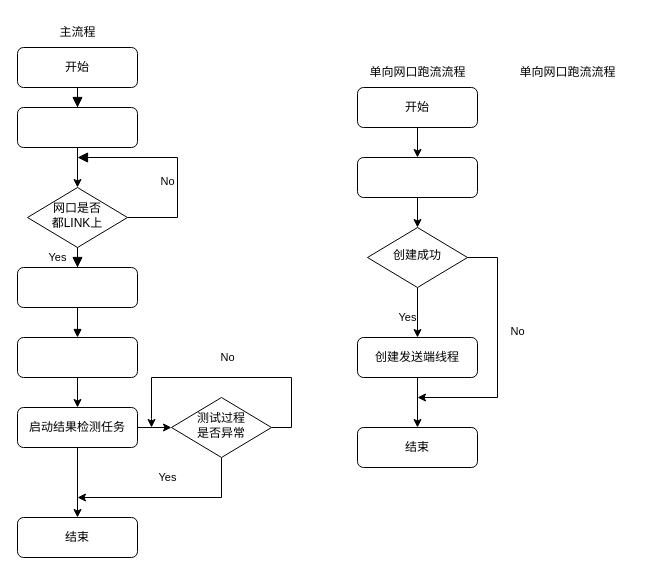
This 645x575 diagram has some shape labels left out. Each missing label, with the centre of its shape:
创建接收端线程: pixel 417 177
初始化: pixel 77 127
启动总计时器: pixel 77 357
启动网口跑流任务: pixel 77 287
